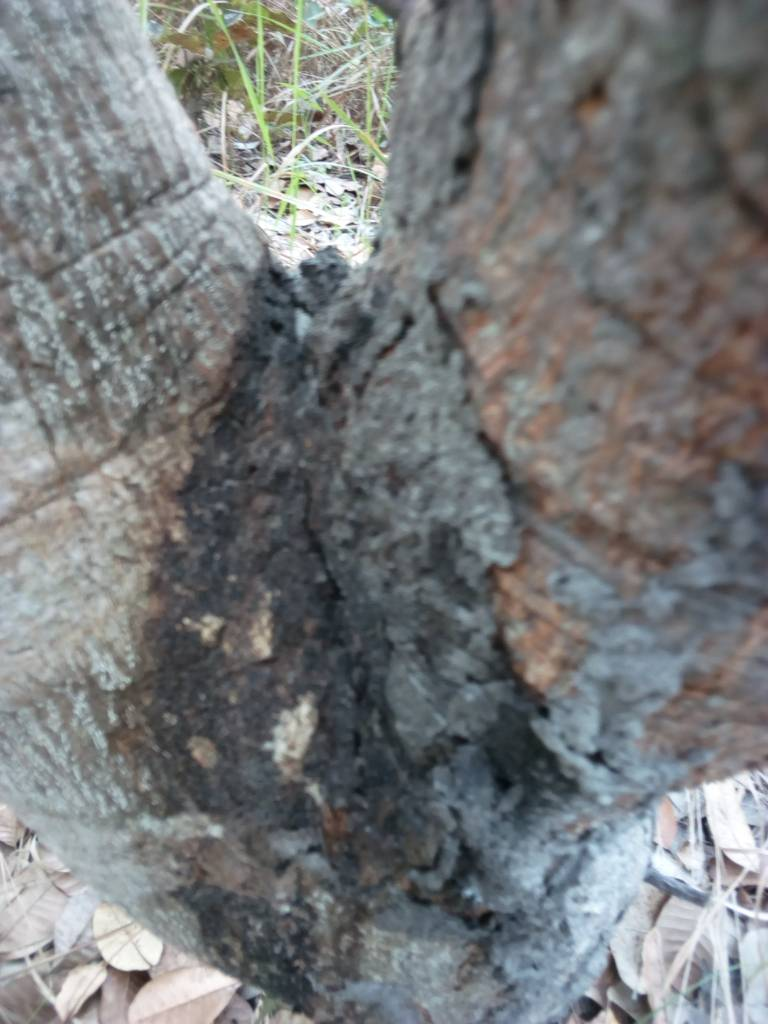Gommose: (171, 317, 379, 988)
